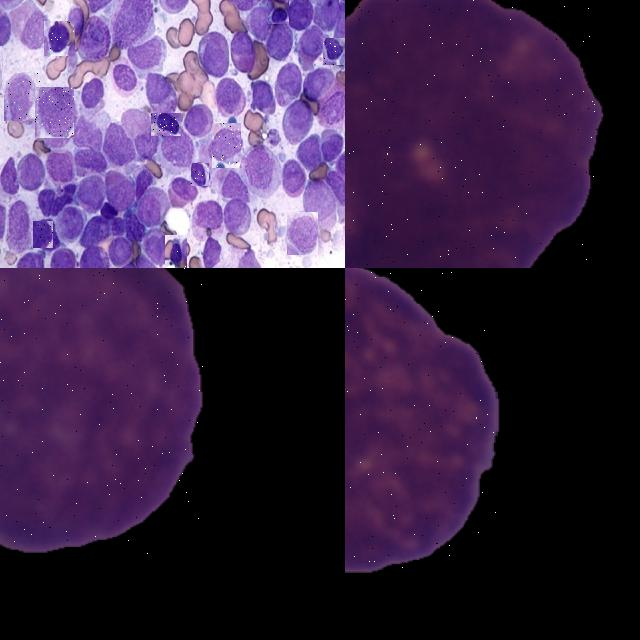ALL Negative Cells: (0, 268, 204, 555), (35, 86, 74, 138), (4, 73, 41, 121), (287, 212, 318, 255), (212, 123, 241, 168)
ALL Positive Cell: (345, 0, 599, 268), (345, 268, 497, 567), (44, 21, 75, 56), (165, 234, 187, 268), (151, 113, 181, 136), (323, 38, 345, 64), (34, 221, 54, 248), (268, 0, 289, 24), (171, 235, 185, 266), (191, 163, 209, 186)
